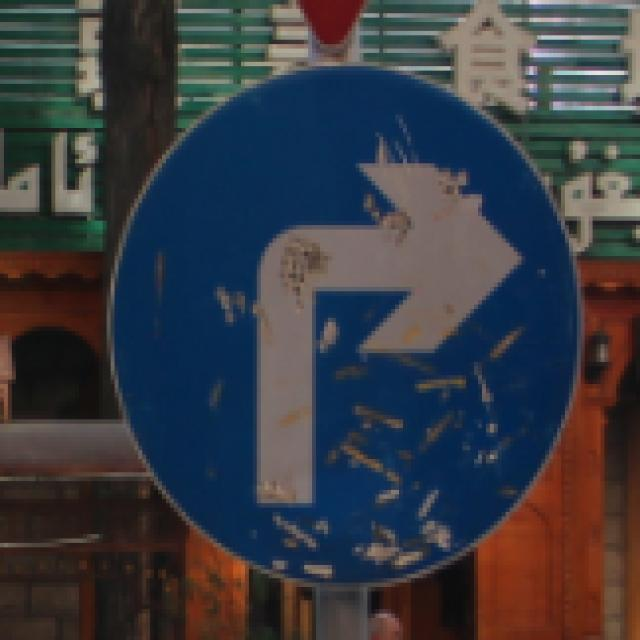right: (113, 83, 585, 606)
